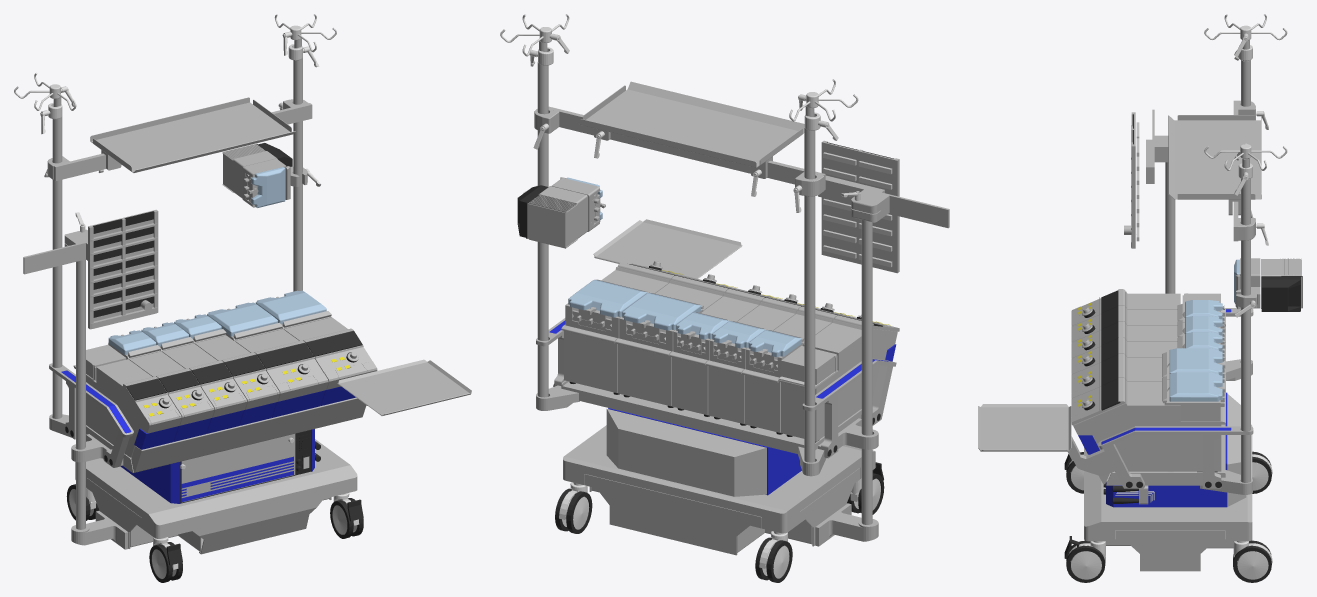
The model's file is mera-heart.glb.
The picture shows the model from 3 angles, left to right: view 1: azimuth 30°, elevation 25°; view 2: azimuth 150°, elevation 25°; view 3: azimuth 270°, elevation 25°; orthographic projection. The views are drawn at different scales.
Visible parts, largest first — view 1: STL-06_SHS-HL, STL-01_almi, STL-04_GrayD, STL-02_blue, STL-03_glass, STL-07_SUS-MG, STL-08_White; view 2: STL-06_SHS-HL, STL-01_almi, STL-03_glass, STL-04_GrayD, STL-07_SUS-MG, STL-05_GrayR, STL-08_White, STL-02_blue; view 3: STL-06_SHS-HL, STL-01_almi, STL-04_GrayD, STL-03_glass, STL-02_blue, STL-08_White, STL-07_SUS-MG, STL-05_GrayR.
Part boxes in pixels (<box>): STL-06_SHS-HL: <box>52,38,471,554</box>; STL-01_almi: <box>23,99,377,549</box>; STL-04_GrayD: <box>65,143,363,582</box>; STL-02_blue: <box>61,370,355,503</box>; STL-03_glass: <box>108,167,326,354</box>; STL-07_SUS-MG: <box>14,14,336,469</box>; STL-08_White: <box>69,488,359,578</box>; STL-06_SHS-HL: <box>527,41,897,555</box>; STL-01_almi: <box>528,109,949,546</box>; STL-03_glass: <box>567,177,801,357</box>; STL-04_GrayD: <box>517,142,894,582</box>; STL-07_SUS-MG: <box>500,14,860,212</box>; STL-05_GrayR: <box>778,152,892,387</box>; STL-08_White: <box>559,478,880,578</box>; STL-02_blue: <box>549,320,896,495</box>; STL-06_SHS-HL: <box>978,40,1301,571</box>; STL-01_almi: <box>1068,100,1301,494</box>; STL-04_GrayD: <box>1064,114,1302,582</box>; STL-03_glass: <box>1169,259,1239,401</box>; STL-02_blue: <box>1078,309,1231,507</box>; STL-08_White: <box>1068,305,1272,579</box>; STL-07_SUS-MG: <box>1115,14,1287,502</box>; STL-05_GrayR: <box>1136,122,1225,324</box>.
Size of the model in its own units: 1361 by 1585 by 1043.
